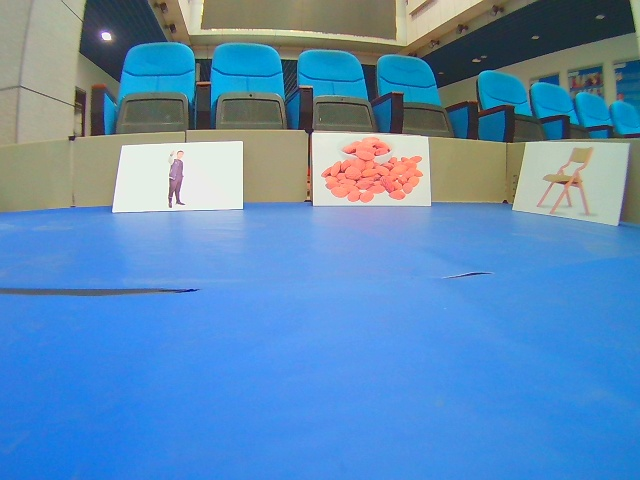food: (311, 133, 433, 207)
person: (111, 141, 242, 212)
table: (509, 141, 629, 227)
